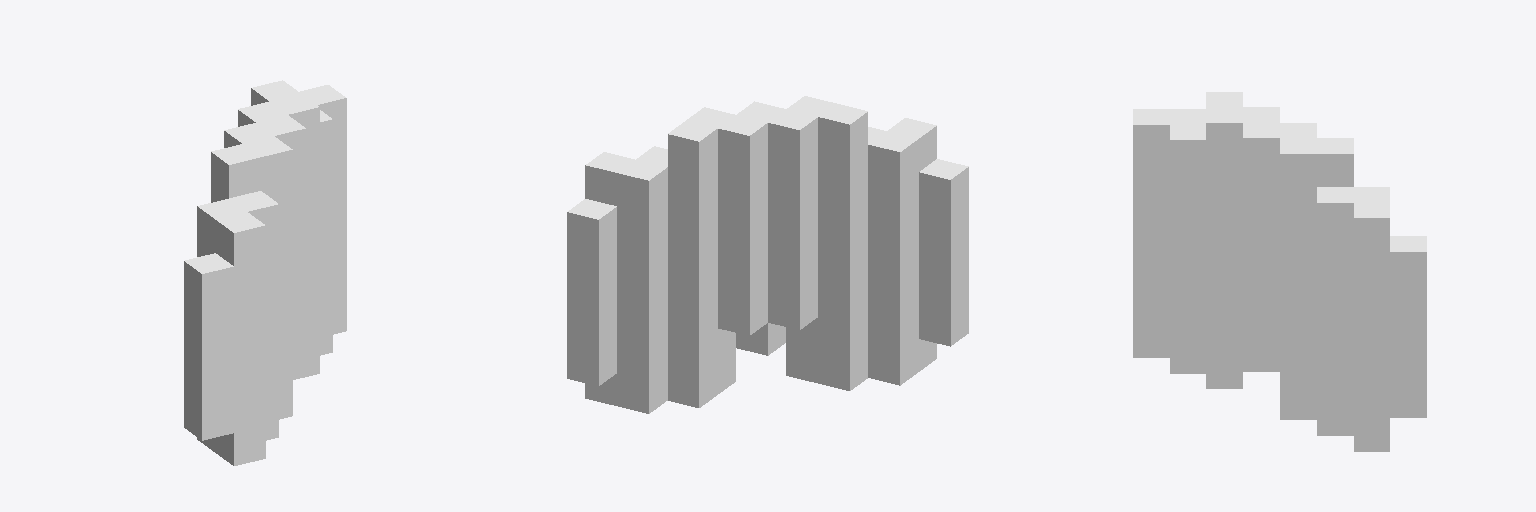
The model's file is PookaGhost2Quarter.obj.
3 renders of one model, left to right at view 1: azimuth 30°, elevation 25°; view 2: azimuth 150°, elevation 25°; view 3: azimuth 270°, elevation 25°, orthographic.
Parts seen in each view (by area): view 1: PookaGhost1; view 2: PookaGhost1; view 3: PookaGhost1.
Boxes of the visible parts, <box> form: PookaGhost1: <box>184,80,346,465</box>; PookaGhost1: <box>567,96,968,413</box>; PookaGhost1: <box>1133,92,1426,451</box>.
Bounding box in the file's own units: 0.8 × 0.8 × 0.8.